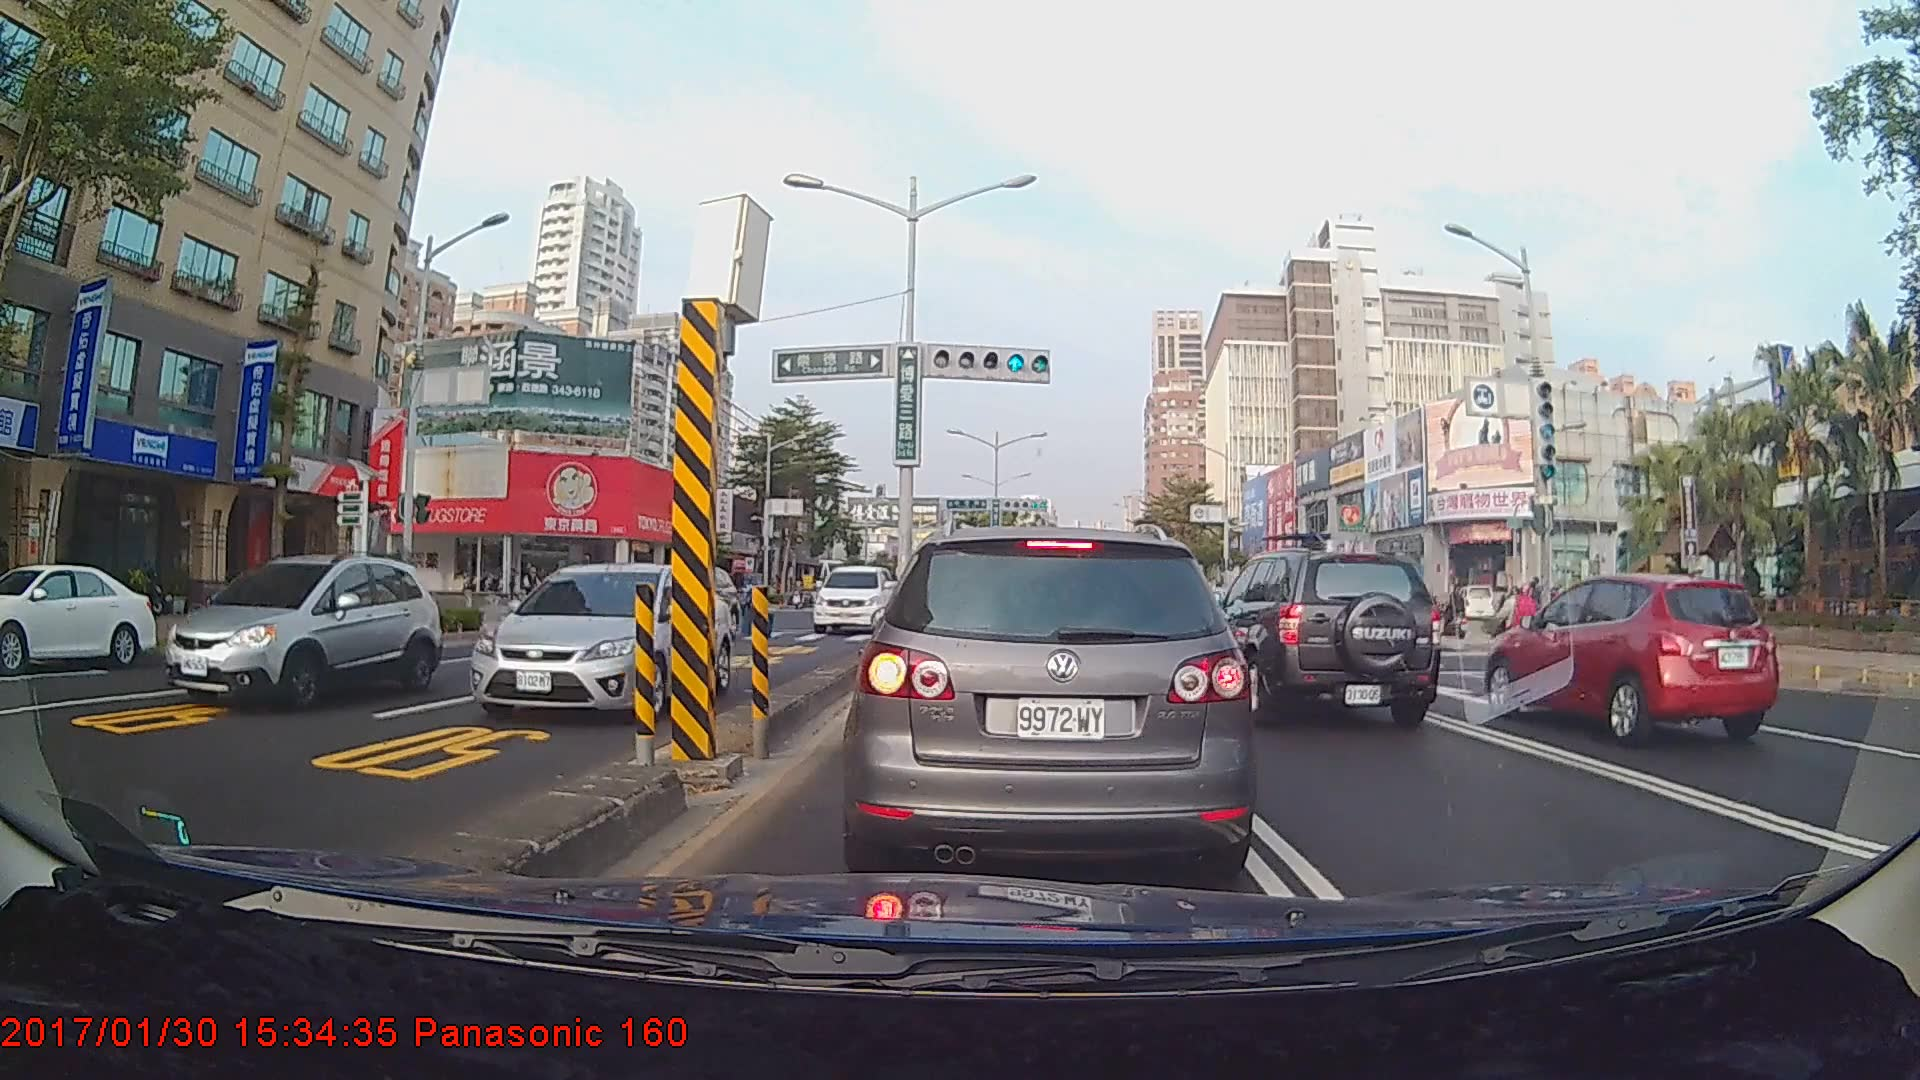rider: (518, 559, 561, 629), (1436, 582, 1473, 646)
vehicle: (849, 525, 1249, 882), (1487, 567, 1773, 746), (164, 552, 442, 712), (1201, 546, 1440, 732), (464, 562, 728, 723), (0, 561, 158, 671), (810, 563, 899, 635)
